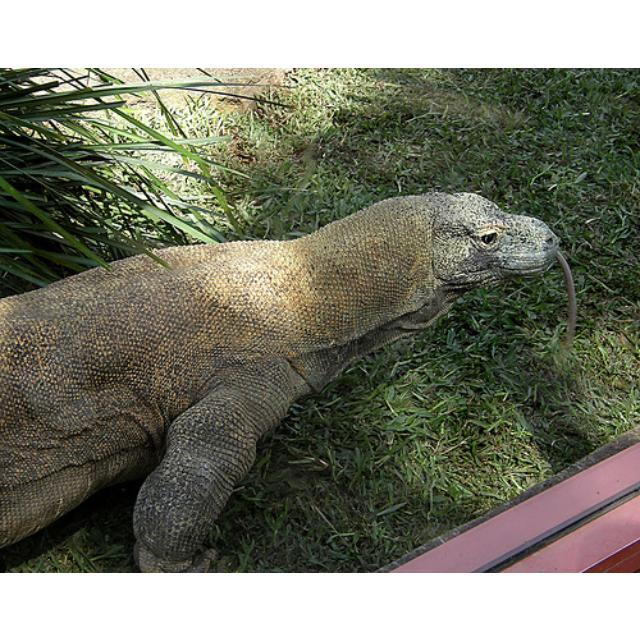KomodoDragon: (1, 188, 578, 570)
